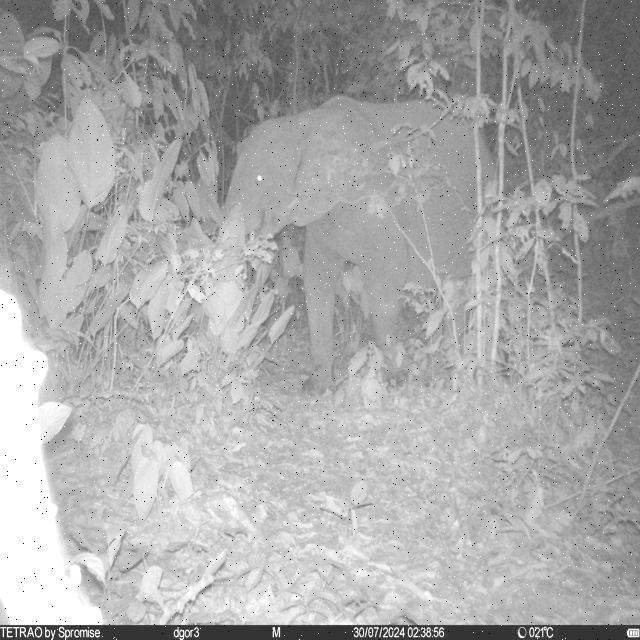ear: (290, 104, 374, 228)
elephant: (220, 92, 500, 404)
